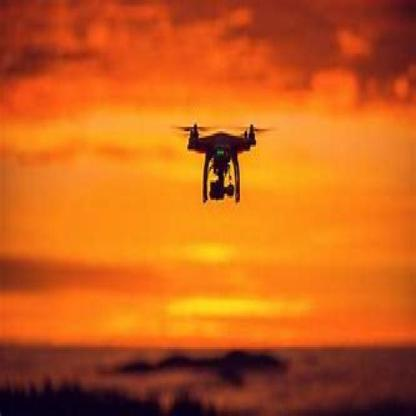drone: (171, 115, 275, 210)
